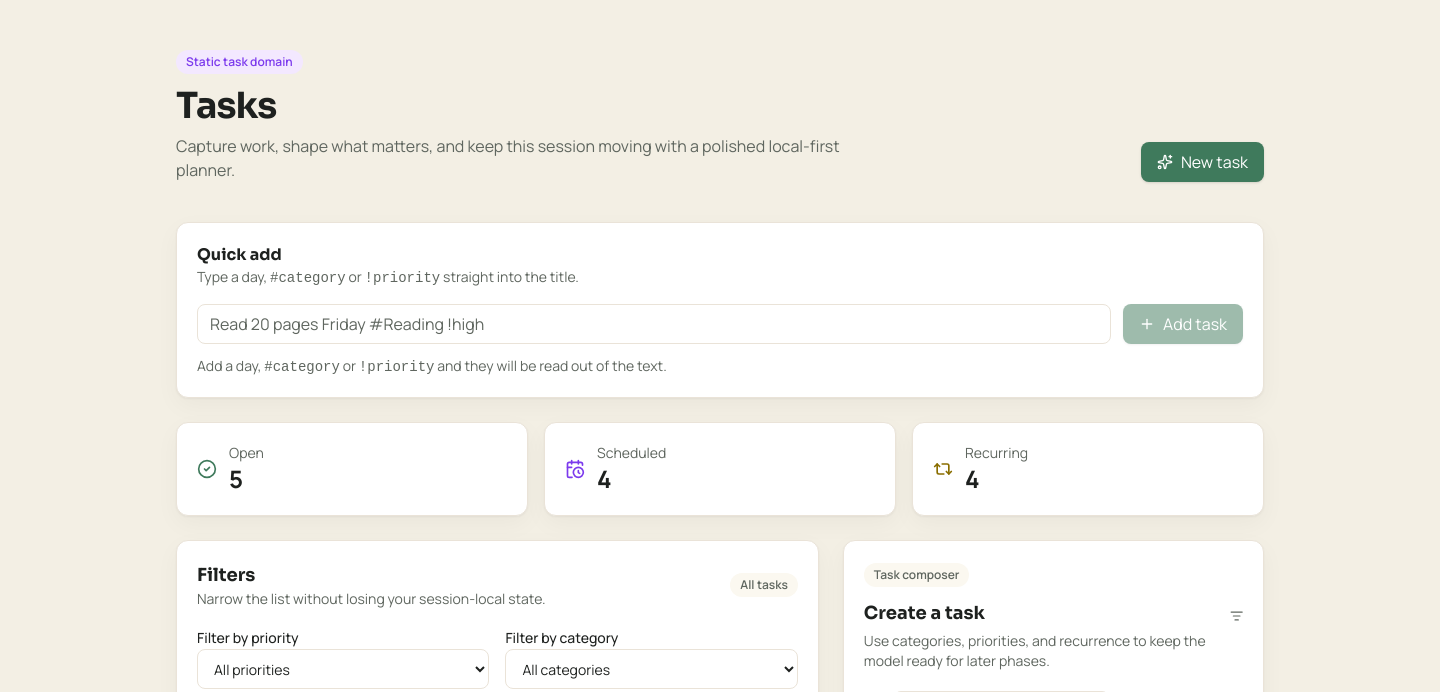
Scenario: TasksPage — filtering › combines the two filters rather than replacing one with the other
The width and height of the screenshot is (1440, 692).
Select "High" in the dropdown labelled "Filter by priority": (343, 669) top-left (197, 649), bottom-right (489, 689)
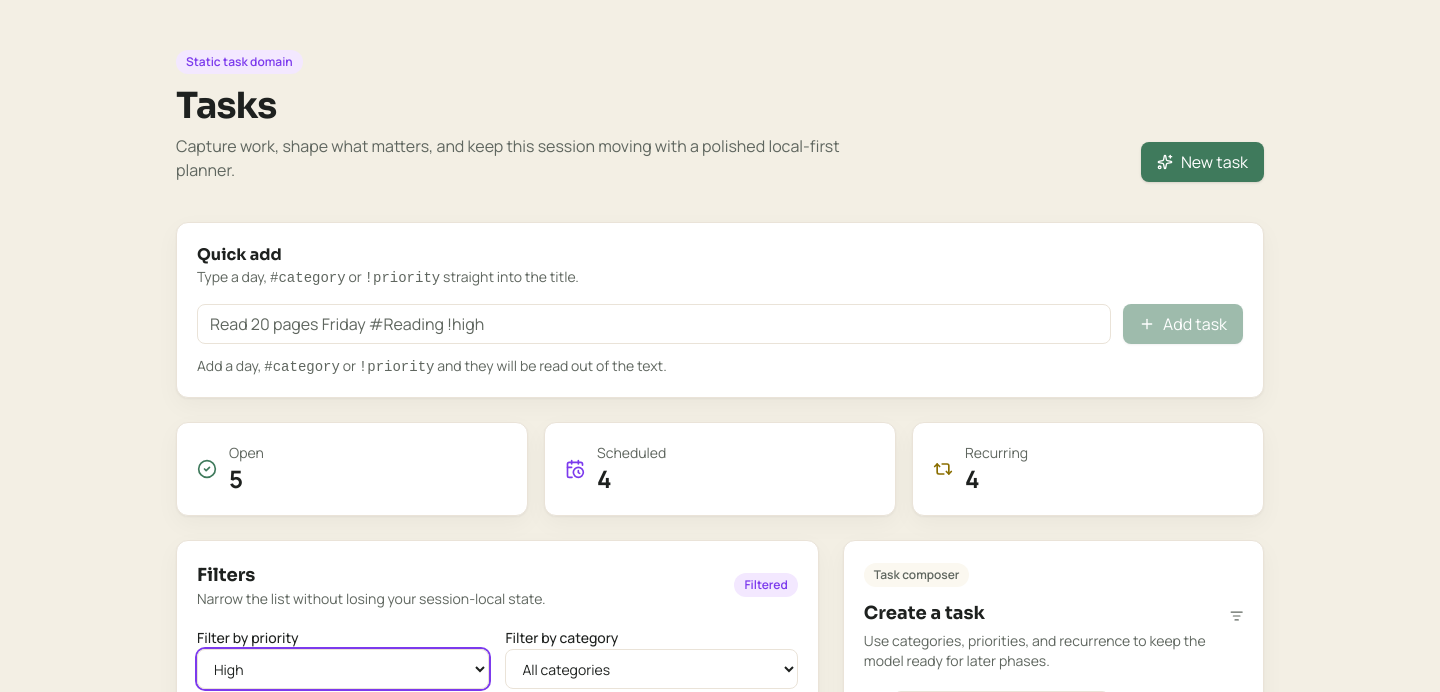
Select "Reading" in the dropdown labelled "Filter by category": (652, 669) top-left (505, 649), bottom-right (798, 689)
(page scrolled)
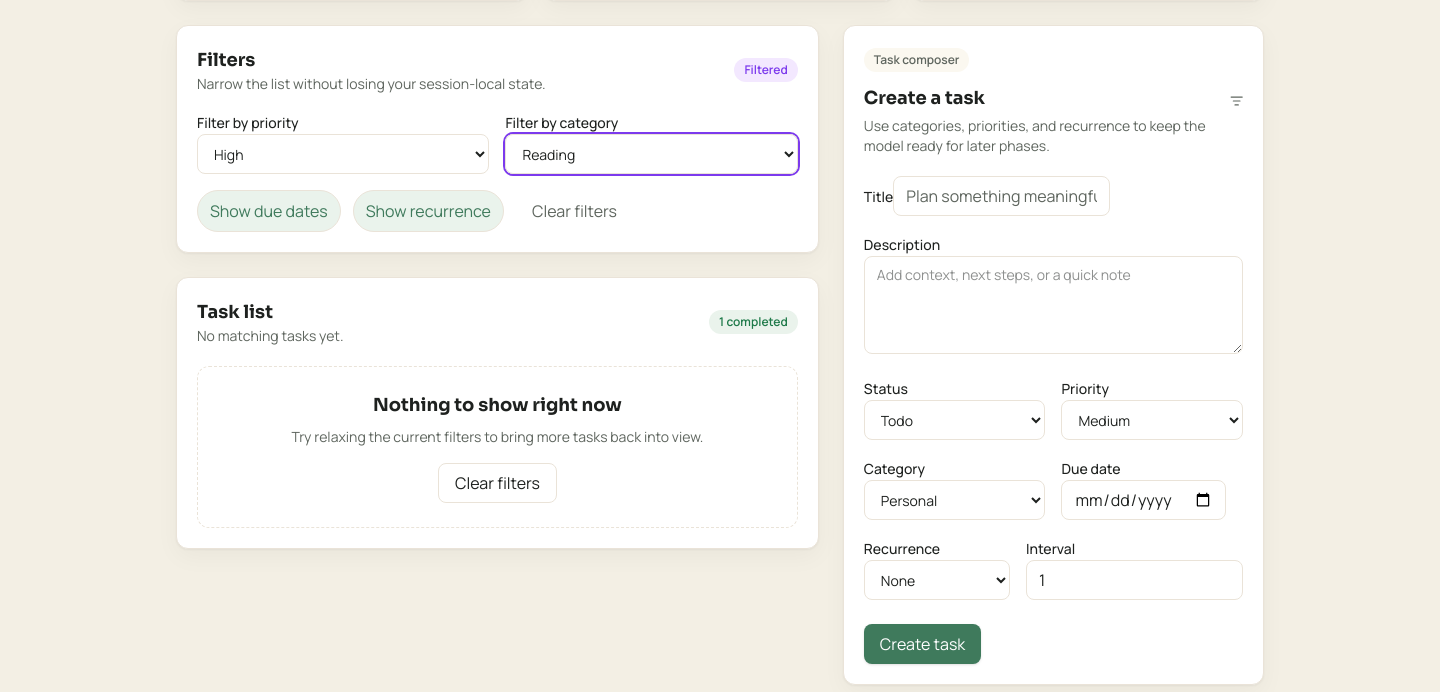
Expected: the text "No matching tasks yet." is shown, top-left (197, 326), bottom-right (344, 346)
Expected: the heading "Nothing to show right now" is shown, top-left (373, 394), bottom-right (622, 416)
